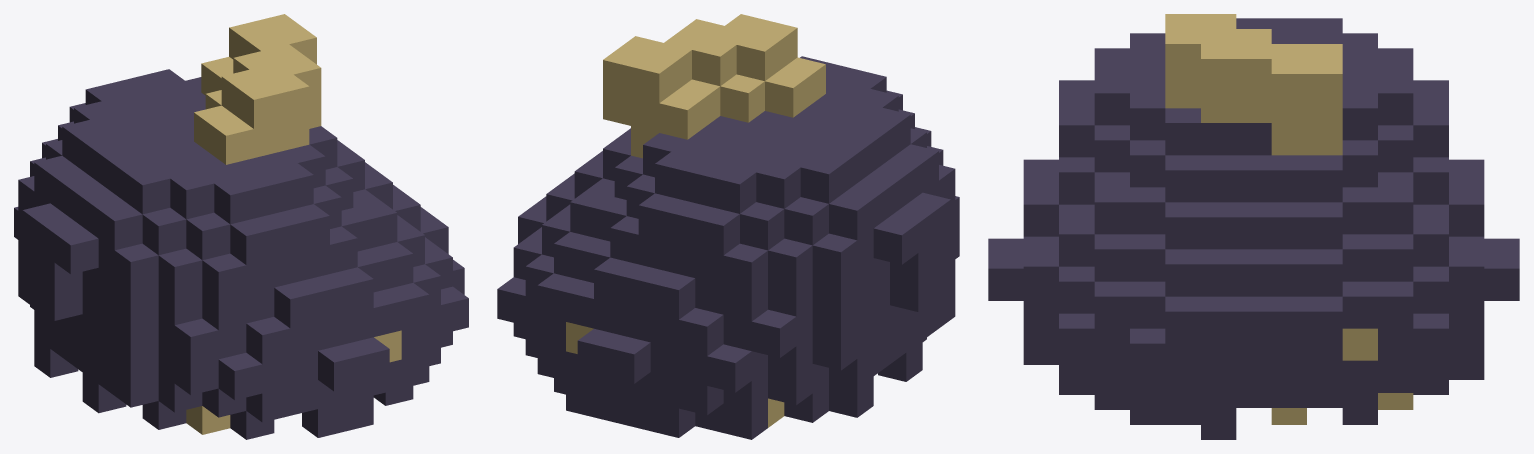
File: mystic_legendary_shoulder_L_lod1.glb
3 views of the same model, side by side, from view 1: azimuth 30°, elevation 25°; view 2: azimuth 150°, elevation 25°; view 3: azimuth 270°, elevation 25° (orthographic). The views are drawn at different scales.
Parts seen in each view (by area): view 1: mystic_legendary_shoulder_L_lod1; view 2: mystic_legendary_shoulder_L_lod1; view 3: mystic_legendary_shoulder_L_lod1.
Part boxes in pixels (left/top/right/bottom): mystic_legendary_shoulder_L_lod1: left=14, top=14, right=468, bottom=439; mystic_legendary_shoulder_L_lod1: left=497, top=14, right=959, bottom=439; mystic_legendary_shoulder_L_lod1: left=988, top=14, right=1519, bottom=439.
Bounding box in the file's own units: 0.312 × 0.24 × 0.36.
